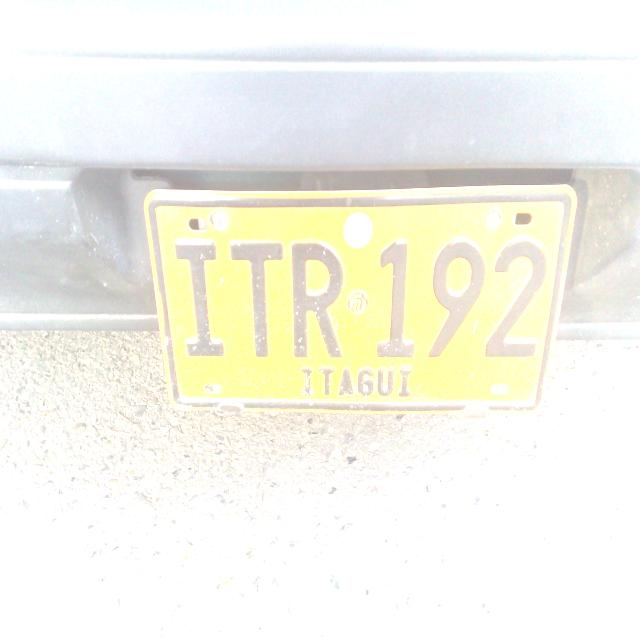placa: (141, 171, 580, 417)
